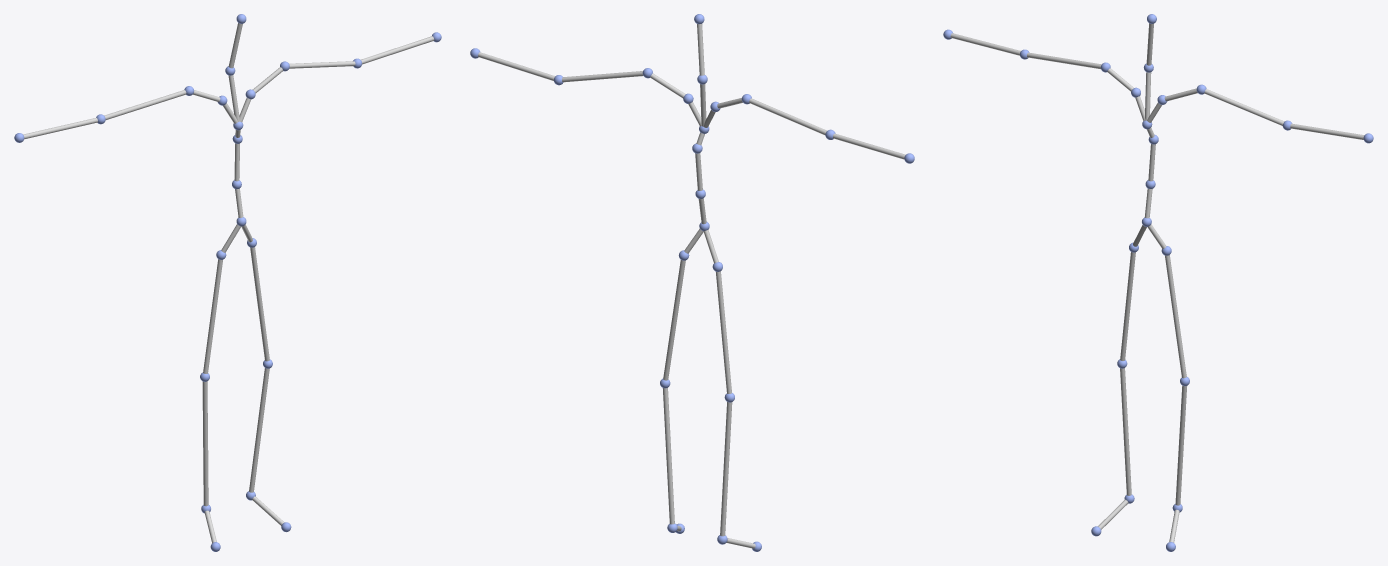
The model's file is SOMA_smplx22_neutral.fbx.
3 views of the same model, side by side, from view 1: azimuth 30°, elevation 25°; view 2: azimuth 150°, elevation 25°; view 3: azimuth 330°, elevation 25° (orthographic). The views are drawn at different scales.
Parts seen in each view (by area): view 1: BoneSegment_6, BoneSegment_7, BoneSegment_4, BoneSegment_3; view 2: BoneSegment_6, BoneSegment_7, BoneSegment_3, BoneSegment_4; view 3: BoneSegment_7, BoneSegment_3, BoneSegment_6, BoneSegment_4.
Boxes of the visible parts, x1,y1,x2,y2 form: BoneSegment_6: (249, 368, 269, 492); BoneSegment_7: (202, 381, 208, 506); BoneSegment_4: (203, 259, 222, 373); BoneSegment_3: (250, 247, 269, 361); BoneSegment_6: (662, 388, 674, 524); BoneSegment_7: (720, 402, 732, 536); BoneSegment_3: (663, 260, 685, 380); BoneSegment_4: (716, 271, 731, 393); BoneSegment_7: (1120, 368, 1131, 495); BoneSegment_3: (1165, 255, 1186, 378); BoneSegment_6: (1175, 385, 1186, 505); BoneSegment_4: (1120, 252, 1135, 360).
Bounding box in the file's own units: 147 × 171 × 17.85.
